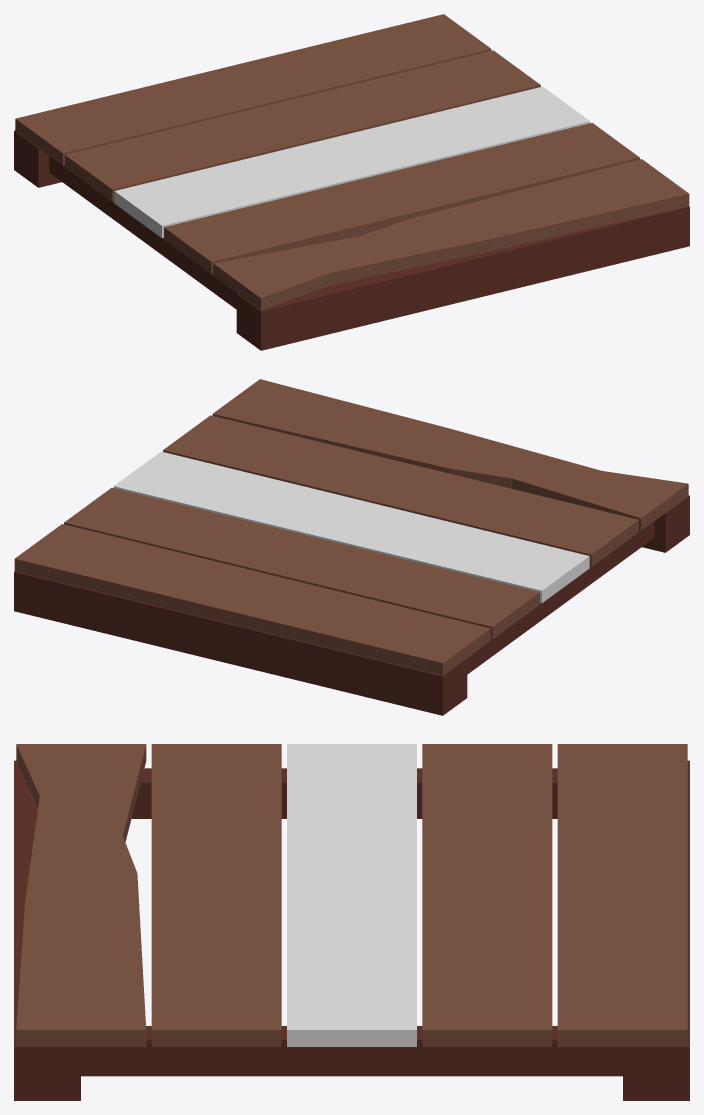
Rendered from ScrapFloor3.fbx.
The picture shows the model from 3 angles, top to bottom: view 1: azimuth 30°, elevation 25°; view 2: azimuth 150°, elevation 25°; view 3: azimuth 270°, elevation 25°; orthographic projection. The views are drawn at different scales.
Parts seen in each view (by area): view 1: Cube; view 2: Cube; view 3: Cube.
Boxes of the visible parts, x1,y1,x2,y2 form: Cube: [14, 14, 689, 350]; Cube: [14, 379, 689, 715]; Cube: [14, 744, 689, 1100].
Bounding box in the file's own units: 200 × 23.14 × 200.
